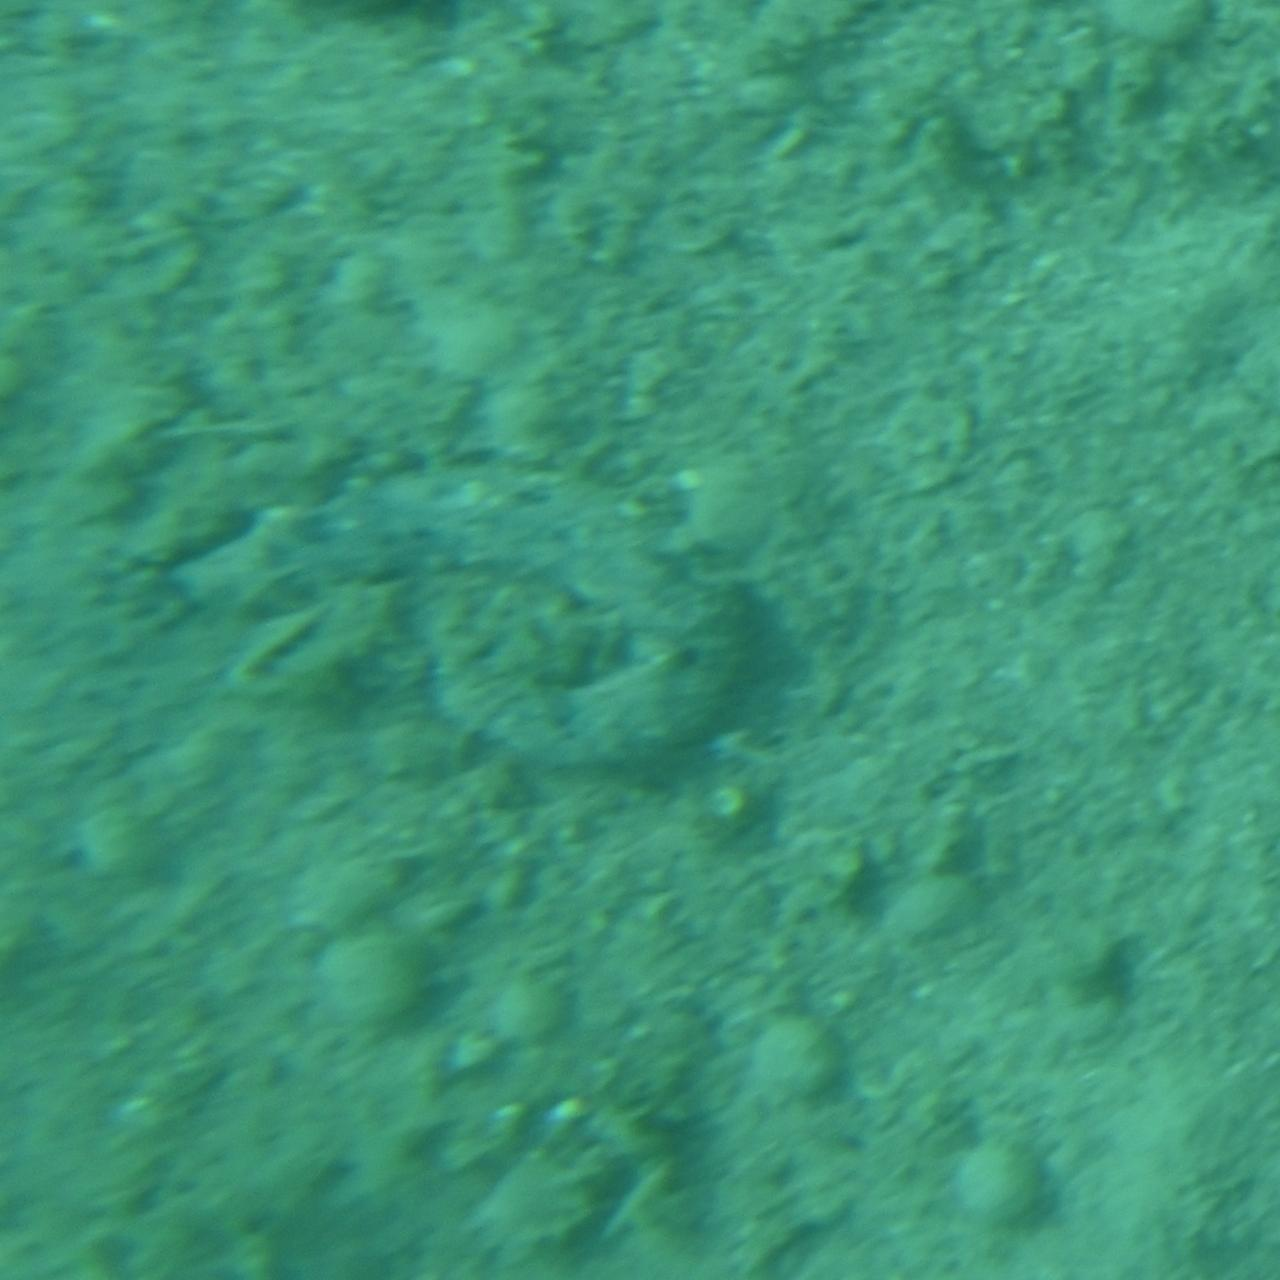Holothuria tubulosa: (163, 484, 763, 796)
